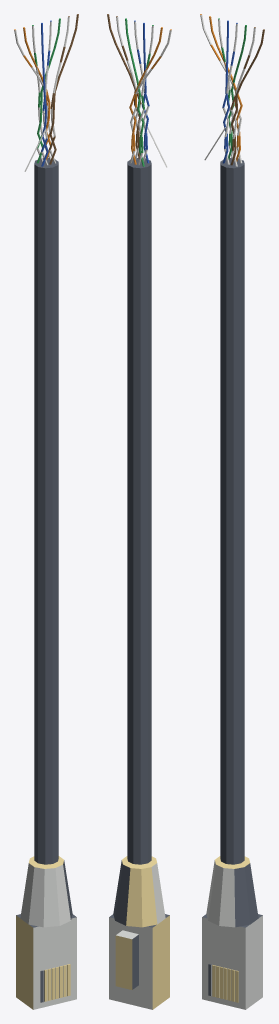
File: UTPCable_Single.fbx
3 renders of one model, left to right at view 1: azimuth 30°, elevation 25°; view 2: azimuth 150°, elevation 25°; view 3: azimuth 330°, elevation 25°, orthographic.
Visible parts, largest first — view 1: UTPCable_01_Jacket, UTPCable_01_RJ45Plug, Cable_01_Conductor_08_Brown, Cable_01_Conductor_07_WhiteBrown, Cable_01_Conductor_05_WhiteBlue, Cable_01_Conductor_04_Blue, Cable_01_Conductor_06_Green, Cable_01_Conductor_03_WhiteGreen, Cable_01_Conductor_02_Orange, Cable_01_Conductor_01_WhiteOrange; view 2: UTPCable_01_Jacket, UTPCable_01_RJ45Plug, Cable_01_Conductor_06_Green, Cable_01_Conductor_02_Orange, Cable_01_Conductor_03_WhiteGreen, Cable_01_Conductor_01_WhiteOrange, Cable_01_Conductor_07_WhiteBrown, Cable_01_Conductor_05_WhiteBlue, Cable_01_Conductor_04_Blue, Cable_01_Conductor_08_Brown; view 3: UTPCable_01_Jacket, UTPCable_01_RJ45Plug, Cable_01_Conductor_05_WhiteBlue, Cable_01_Conductor_07_WhiteBrown, Cable_01_Conductor_08_Brown, Cable_01_Conductor_04_Blue, Cable_01_Conductor_02_Orange, Cable_01_Conductor_01_WhiteOrange, Cable_01_Conductor_06_Green, Cable_01_Conductor_03_WhiteGreen.
Boxes of the visible parts, <box> form: UTPCable_01_Jacket: <box>34,158,58,864</box>; UTPCable_01_RJ45Plug: <box>16,856,76,1009</box>; Cable_01_Conductor_08_Brown: <box>49,14,78,164</box>; Cable_01_Conductor_07_WhiteBrown: <box>49,16,69,163</box>; Cable_01_Conductor_05_WhiteBlue: <box>41,20,51,165</box>; Cable_01_Conductor_04_Blue: <box>41,23,48,166</box>; Cable_01_Conductor_06_Green: <box>36,18,60,163</box>; Cable_01_Conductor_03_WhiteGreen: <box>32,25,43,161</box>; Cable_01_Conductor_02_Orange: <box>23,27,50,160</box>; Cable_01_Conductor_01_WhiteOrange: <box>14,29,51,159</box>; UTPCable_01_Jacket: <box>127,157,151,864</box>; UTPCable_01_RJ45Plug: <box>109,856,169,1009</box>; Cable_01_Conductor_06_Green: <box>125,18,144,166</box>; Cable_01_Conductor_02_Orange: <box>129,27,162,164</box>; Cable_01_Conductor_03_WhiteGreen: <box>137,25,153,165</box>; Cable_01_Conductor_01_WhiteOrange: <box>129,29,171,163</box>; Cable_01_Conductor_07_WhiteBrown: <box>116,16,141,159</box>; Cable_01_Conductor_05_WhiteBlue: <box>134,20,149,161</box>; Cable_01_Conductor_04_Blue: <box>142,23,149,163</box>; Cable_01_Conductor_08_Brown: <box>107,14,141,160</box>; UTPCable_01_Jacket: <box>220,157,244,864</box>; UTPCable_01_RJ45Plug: <box>202,856,262,1009</box>; Cable_01_Conductor_05_WhiteBlue: <box>222,23,237,164</box>; Cable_01_Conductor_07_WhiteBrown: <box>230,27,255,166</box>; Cable_01_Conductor_08_Brown: <box>230,29,264,165</box>; Cable_01_Conductor_04_Blue: <box>222,20,230,163</box>; Cable_01_Conductor_02_Orange: <box>209,16,242,161</box>; Cable_01_Conductor_01_WhiteOrange: <box>200,14,242,163</box>; Cable_01_Conductor_06_Green: <box>228,25,246,159</box>; Cable_01_Conductor_03_WhiteGreen: <box>218,18,234,160</box>.
Bounding box in the file's own units: 1.73 × 24.95 × 1.34.
